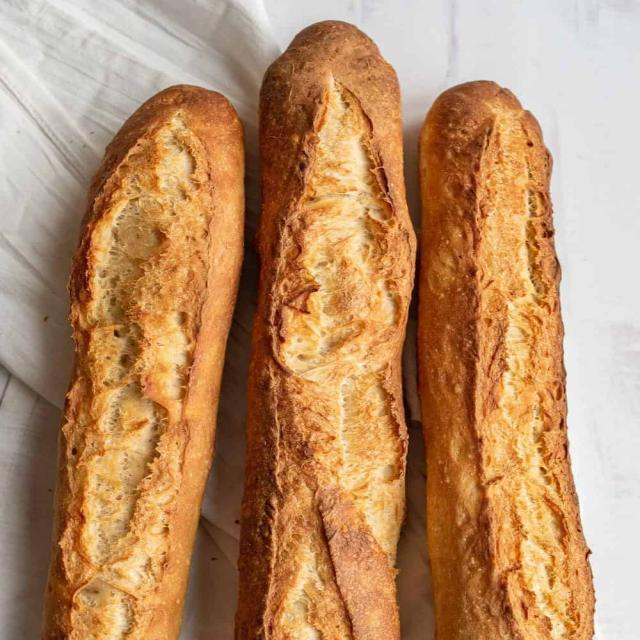Baguette: (42, 85, 243, 640), (236, 23, 414, 640), (417, 81, 595, 640)
